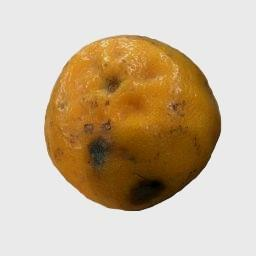Unripe: (45, 36, 219, 206)
